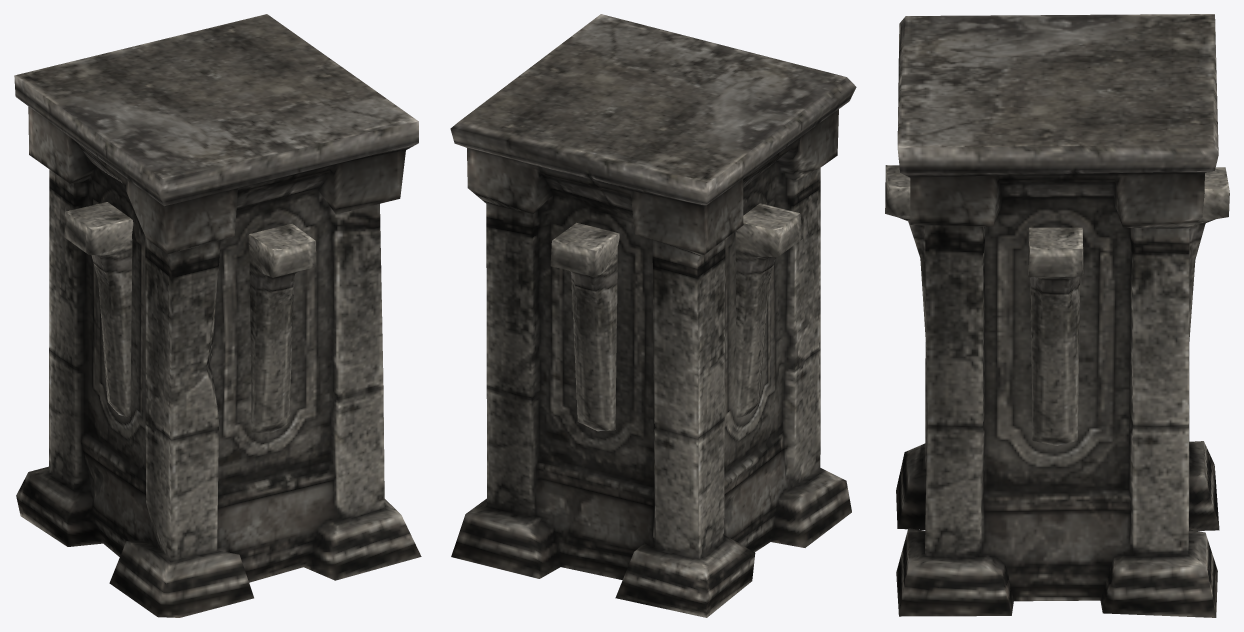
Rendered from Pillar1A.fbx.
The picture shows the model from 3 angles, left to right: view 1: azimuth 30°, elevation 25°; view 2: azimuth 150°, elevation 25°; view 3: azimuth 270°, elevation 25°; orthographic projection. The views are drawn at different scales.
Parts seen in each view (by area): view 1: polySurface49; view 2: polySurface49; view 3: polySurface49.
Part boxes in pixels (x1,y1,x2,y2): polySurface49: [14, 14, 421, 617]; polySurface49: [450, 14, 856, 617]; polySurface49: [885, 14, 1229, 617].
Bounding box in the file's own units: 2.99 × 4.5 × 2.99.
